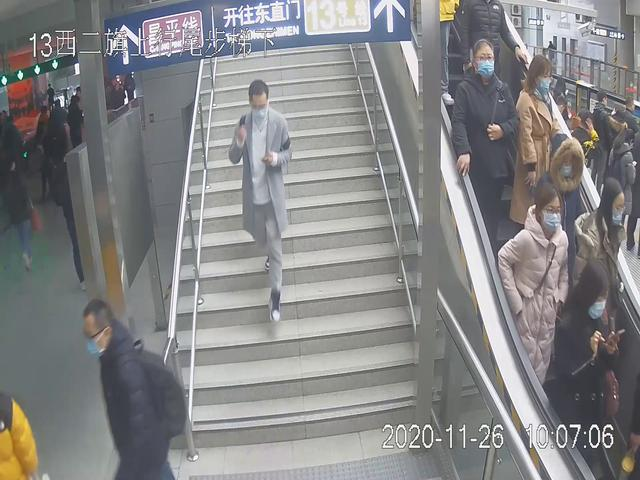person: (77, 295, 188, 480), (544, 257, 630, 476), (226, 74, 293, 324), (492, 180, 570, 394), (451, 37, 521, 257), (510, 52, 559, 238)
